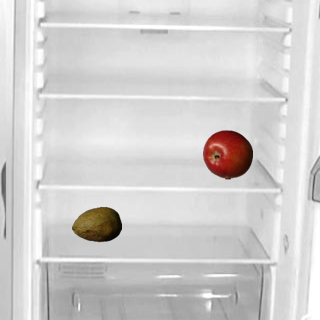Apple Braeburn: (202, 129, 252, 179)
Papaya: (71, 199, 121, 249)
